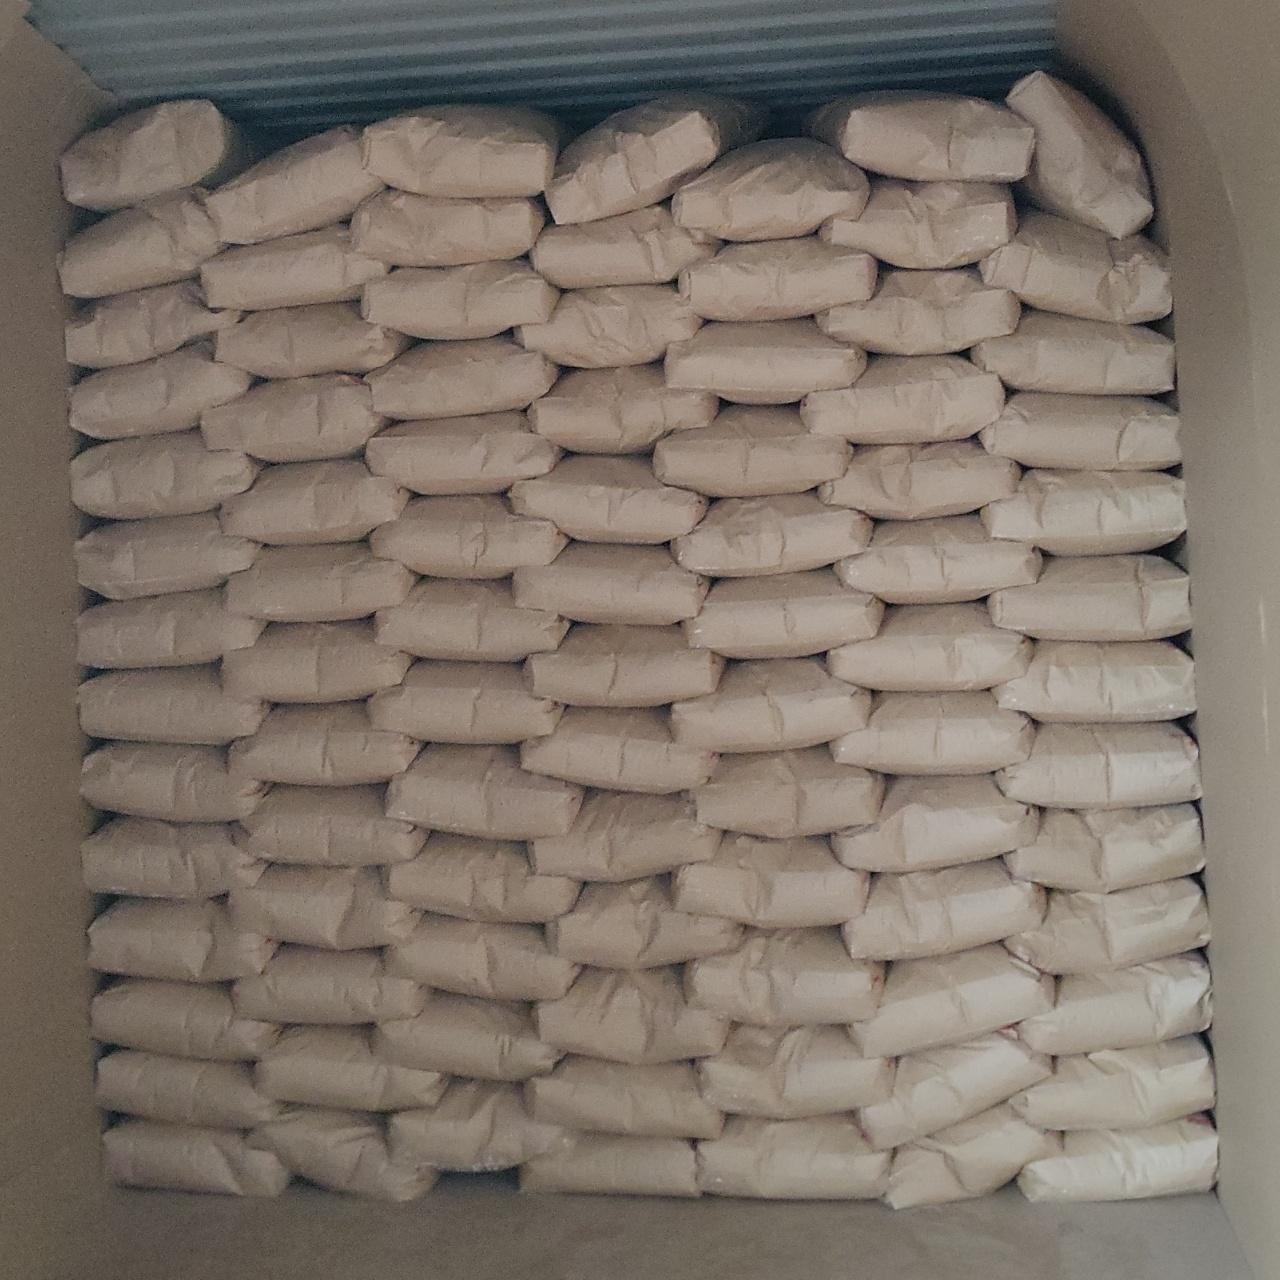sack: (546, 95, 765, 223), (1006, 72, 1153, 237), (852, 942, 1054, 1057), (60, 98, 260, 211), (978, 207, 1170, 324), (860, 1033, 1051, 1148), (204, 127, 384, 243), (672, 138, 869, 240), (1005, 876, 1208, 974), (844, 859, 1046, 958), (811, 91, 1034, 181), (1020, 952, 1212, 1055), (685, 928, 884, 1027), (838, 775, 1039, 872), (1008, 1036, 1213, 1130), (669, 658, 871, 753), (386, 743, 583, 839), (535, 967, 727, 1064), (57, 188, 229, 297), (697, 1024, 893, 1118), (652, 406, 852, 497), (547, 876, 741, 969), (835, 515, 1041, 602), (673, 835, 867, 927), (362, 105, 559, 197), (883, 1107, 1058, 1208), (828, 602, 1032, 690), (801, 355, 1005, 443), (821, 177, 1016, 268), (683, 568, 884, 658), (1003, 803, 1204, 892), (986, 554, 1191, 641), (665, 316, 866, 404), (247, 1109, 438, 1201), (998, 722, 1201, 809), (72, 343, 256, 440), (527, 791, 723, 881), (692, 745, 884, 837), (981, 469, 1186, 554), (1020, 1114, 1218, 1201), (508, 456, 708, 543), (529, 362, 719, 454), (817, 268, 1020, 354), (971, 309, 1175, 394), (386, 833, 581, 921), (520, 707, 717, 794), (678, 234, 877, 320), (72, 430, 261, 519), (372, 992, 564, 1080), (670, 492, 873, 576), (256, 1026, 448, 1112), (696, 1114, 891, 1199), (992, 641, 1194, 723), (525, 624, 724, 707), (74, 511, 261, 599), (200, 375, 390, 462), (830, 692, 1033, 772), (525, 1055, 722, 1138), (230, 701, 423, 785), (369, 496, 567, 578), (229, 865, 421, 949), (368, 660, 563, 743), (386, 915, 580, 999), (365, 411, 561, 493), (512, 542, 709, 624), (200, 224, 389, 309), (220, 459, 411, 544), (819, 440, 1021, 519), (517, 282, 704, 368), (361, 258, 559, 339), (388, 1080, 565, 1170), (531, 205, 722, 288), (979, 392, 1180, 470), (222, 619, 411, 702), (365, 338, 557, 418), (89, 900, 278, 982), (232, 946, 429, 1024), (375, 579, 568, 659), (350, 189, 545, 267), (67, 280, 239, 368), (79, 665, 268, 744), (216, 301, 414, 377), (79, 588, 267, 668), (82, 818, 267, 899), (91, 979, 277, 1060), (225, 544, 416, 621), (81, 742, 265, 822), (240, 787, 427, 865), (96, 1050, 282, 1128), (102, 1121, 290, 1196), (520, 1132, 701, 1196)
